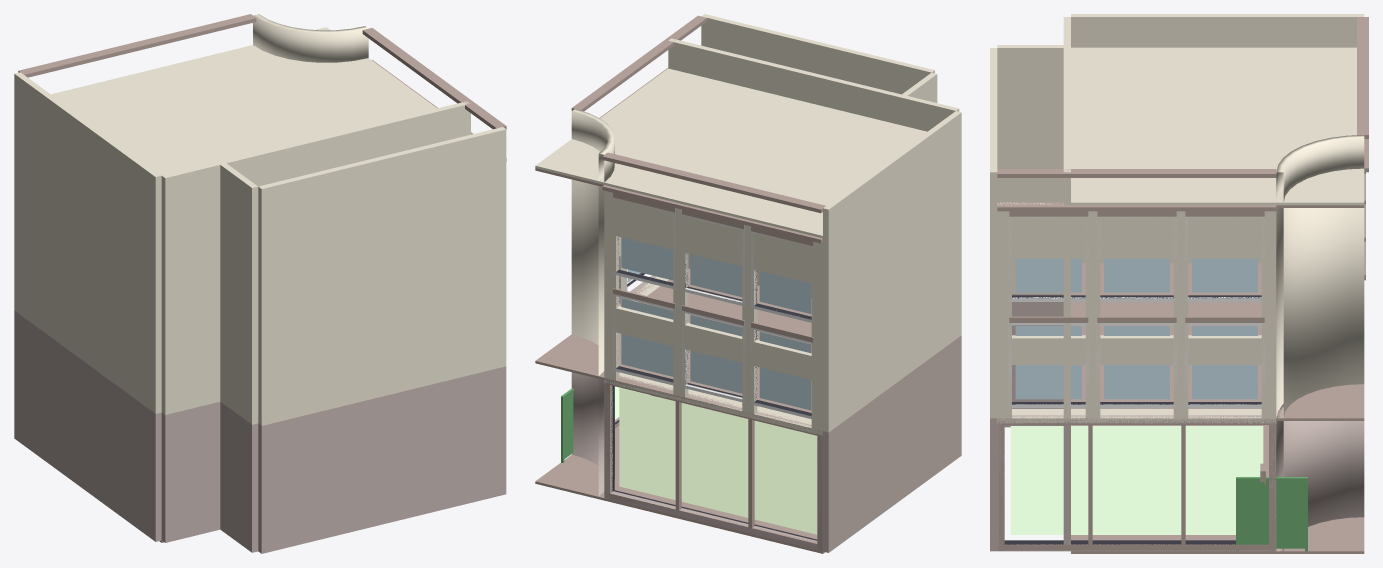
File: Building_2_3.glb
3 views of the same model, side by side, from view 1: azimuth 30°, elevation 25°; view 2: azimuth 150°, elevation 25°; view 3: azimuth 270°, elevation 25° (orthographic). The views are drawn at different scales.
Visible parts, largest first — view 1: Upper_Walls.Bottom, Ground_Walls.Bottom, Upper_Walls.Left, Floors.Roof, Ground_Walls.Left, Upper_Walls.Back, Parapet.Back, Parapet.Bottom, Upper_Walls.End, Ground_Walls.Back, Parapet.Left, Ground_Walls.End (+4 smaller); view 2: Floors.Roof, Upper_Walls.Left, Display_Windows.Front.Glass, Ground_Walls.Left, Parapet.Back, Parapet.Bottom, Floors.F2, Curved_Corner.Upper, Parapet.Left, Floors.Ground, Curved_Corner.Ground, Canopy.Front (+31 smaller); view 3: Floors.Roof, Display_Windows.Side.Glass, Curved_Corner.Upper, Parapet.Left, Floors.F2, Upper_Walls.End, Curved_Corner.Ground, Floors.Ground, Doors.Body, Canopy.Side, Upper_Walls.Side_H3_S3, Upper_Walls.Side_H3_S5 (+51 smaller).
Boxes of the visible parts, box(x1,y1,x2,y2) form: Upper_Walls.Bottom: box(258, 161, 506, 425); Ground_Walls.Bottom: box(258, 366, 506, 553); Upper_Walls.Left: box(14, 106, 161, 413); Floors.Roof: box(51, 27, 436, 175); Ground_Walls.Left: box(14, 311, 161, 541); Upper_Walls.Back: box(161, 197, 220, 414); Parapet.Back: box(161, 101, 470, 209); Parapet.Bottom: box(258, 127, 506, 220); Upper_Walls.End: box(220, 197, 258, 424); Ground_Walls.Back: box(161, 402, 220, 542); Parapet.Left: box(14, 72, 161, 208); Ground_Walls.End: box(220, 402, 258, 552); Floors.Roof: box(535, 68, 926, 238); Upper_Walls.Left: box(823, 143, 961, 432); Display_Windows.Front.Glass: box(619, 388, 817, 534); Ground_Walls.Left: box(823, 335, 961, 552); Parapet.Back: box(668, 38, 959, 131); Parapet.Bottom: box(701, 14, 934, 94); Floors.F2: box(535, 268, 822, 431); Curved_Corner.Upper: box(571, 179, 604, 375); Parapet.Left: box(823, 111, 961, 239); Floors.Ground: box(535, 397, 824, 553); Curved_Corner.Ground: box(571, 372, 614, 496); Canopy.Front: box(604, 372, 822, 435); Floors.Roof: box(1071, 47, 1364, 205); Display_Windows.Side.Glass: box(1010, 426, 1263, 534); Curved_Corner.Upper: box(1276, 208, 1364, 418); Parapet.Left: box(1071, 14, 1364, 47); Floors.F2: box(1071, 263, 1364, 420); Upper_Walls.End: box(997, 81, 1063, 294); Curved_Corner.Ground: box(1276, 404, 1364, 551); Floors.Ground: box(1071, 425, 1364, 553); Doors.Body: box(1239, 480, 1304, 548); Canopy.Side: box(997, 409, 1276, 423); Upper_Walls.Side_H3_S3: box(1100, 216, 1173, 258); Upper_Walls.Side_H3_S5: box(1188, 216, 1261, 258).
Size of the model in its own units: 2.61 by 2.87 by 2.58.
